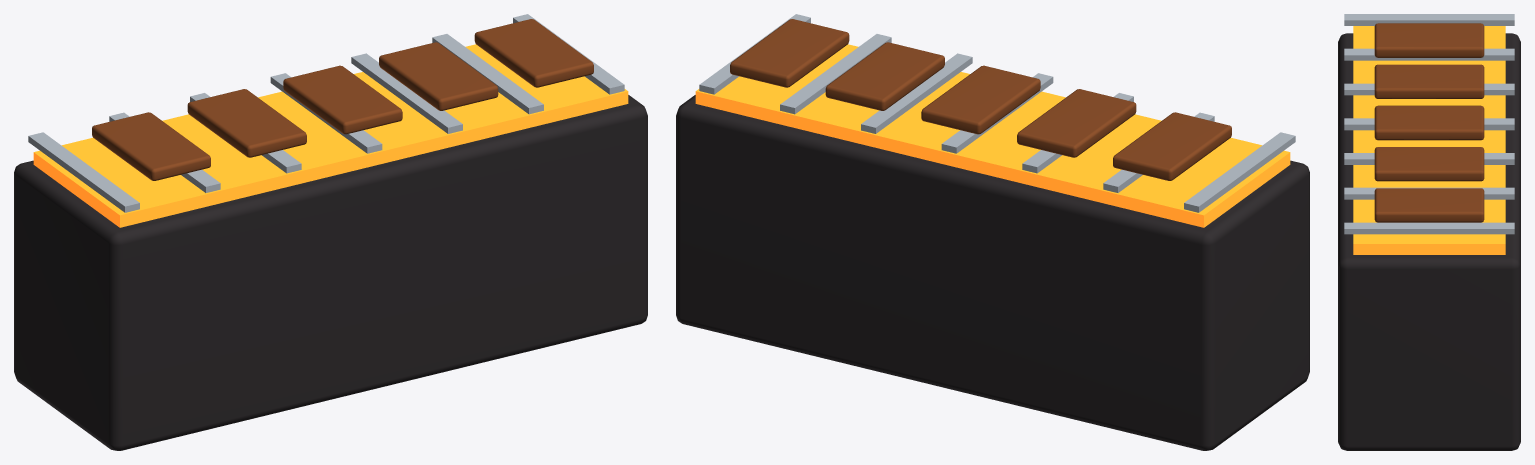
Rendered from grill.glb.
3 renders of one model, left to right at view 1: azimuth 30°, elevation 25°; view 2: azimuth 150°, elevation 25°; view 3: azimuth 270°, elevation 25°, orthographic. The views are drawn at different scales.
Visible parts, largest first — view 1: Body, Coal, Meat.002, Meat.003, Meat.001, Meat.004, Meat, Rack, Rack.004, Rack.005, Rack.003, Rack.006 (+2 smaller); view 2: Body, Coal, Meat.002, Meat.003, Meat.001, Meat.004, Meat, Rack, Rack.004, Rack.005, Rack.003, Rack.006 (+2 smaller); view 3: Body, Coal, Meat.002, Meat, Meat.001, Meat.004, Meat.003, Rack.006, Rack, Rack.001, Rack.005, Rack.002 (+2 smaller).
Part boxes in pixels (<box>): Body: <box>14,95,647,450</box>; Coal: <box>33,44,628,227</box>; Meat.002: <box>283,65,402,134</box>; Meat.003: <box>379,42,498,110</box>; Meat.001: <box>187,89,306,157</box>; Meat.004: <box>474,19,593,87</box>; Meat: <box>92,112,210,180</box>; Rack: <box>28,132,139,212</box>; Rack.004: <box>351,53,462,133</box>; Rack.005: <box>432,34,543,114</box>; Rack.003: <box>270,73,382,153</box>; Rack.006: <box>513,14,624,94</box>; Body: <box>676,95,1309,450</box>; Coal: <box>695,44,1290,227</box>; Meat.002: <box>921,65,1040,134</box>; Meat.003: <box>825,42,944,110</box>; Meat.001: <box>1017,89,1136,157</box>; Meat.004: <box>730,19,849,87</box>; Meat: <box>1113,112,1231,180</box>; Rack: <box>1184,132,1295,212</box>; Rack.004: <box>861,53,972,133</box>; Rack.005: <box>780,34,891,114</box>; Rack.003: <box>941,73,1053,153</box>; Rack.006: <box>699,14,810,94</box>; Body: <box>1338,33,1520,450</box>; Coal: <box>1353,26,1505,254</box>; Meat.002: <box>1374,105,1484,140</box>; Meat: <box>1374,23,1484,57</box>; Meat.001: <box>1374,64,1484,98</box>; Meat.004: <box>1374,188,1484,222</box>; Meat.003: <box>1374,147,1484,181</box>; Rack.006: <box>1344,222,1514,234</box>; Rack: <box>1344,14,1514,25</box>; Rack.001: <box>1344,48,1514,60</box>; Rack.005: <box>1344,187,1514,199</box>; Rack.002: <box>1344,83,1514,95</box>.
Bounding box in the file's own units: 1.8 × 0.82 × 0.6.
